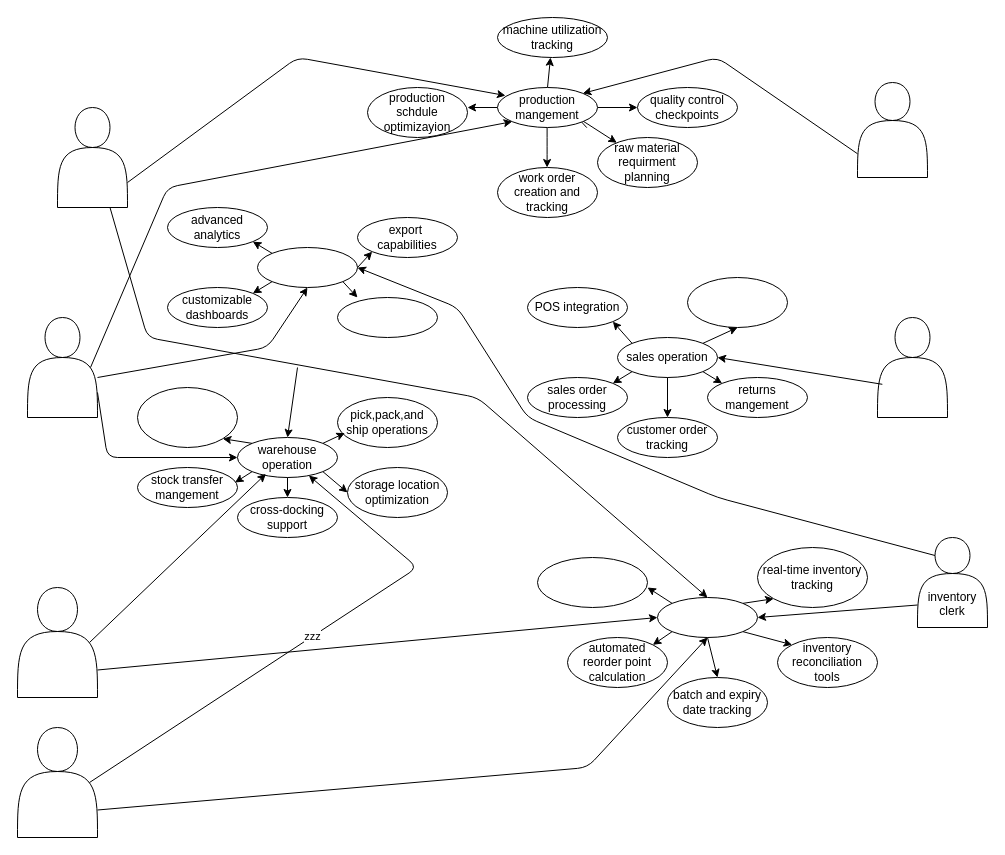
This 1005x855 diagram has some shape labels left out. The centre of each missing label's shape, as x and y in pixels:
inventory mangement: point (707, 617)
multi-location stock mangement: point (592, 582)
pricing and promotion handling: point (737, 302)
production supervisor: point (892, 130)
rational manger: point (62, 367)
receving and putaway management: point (187, 417)
reporting and analytics: point (307, 267)
sales staff: point (912, 367)
standard repot templates: point (387, 317)
store manger: point (57, 642)
system admistrator: point (92, 157)
warehouse manger: point (57, 782)
